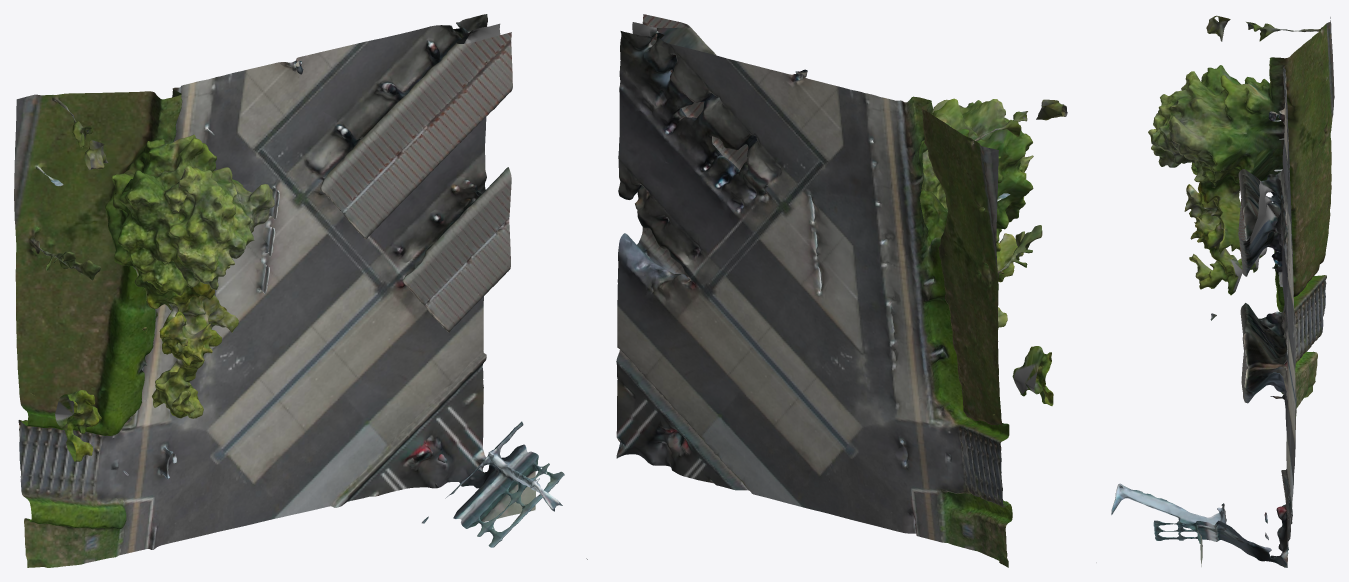
Rendered from Tile_+016_+019.fbx.
3 views of the same model, side by side, from view 1: azimuth 30°, elevation 25°; view 2: azimuth 150°, elevation 25°; view 3: azimuth 270°, elevation 25° (orthographic). The views are drawn at different scales.
Visible parts, largest first — view 1: DefaultName; view 2: DefaultName; view 3: DefaultName.
Part boxes in pixels (x1,y1,x2,y2): DefaultName: (14, 14, 587, 567); DefaultName: (616, 14, 1067, 567); DefaultName: (1096, 15, 1334, 567).
Bounding box in the file's own units: 22.54 × 22.54 × 12.88.
